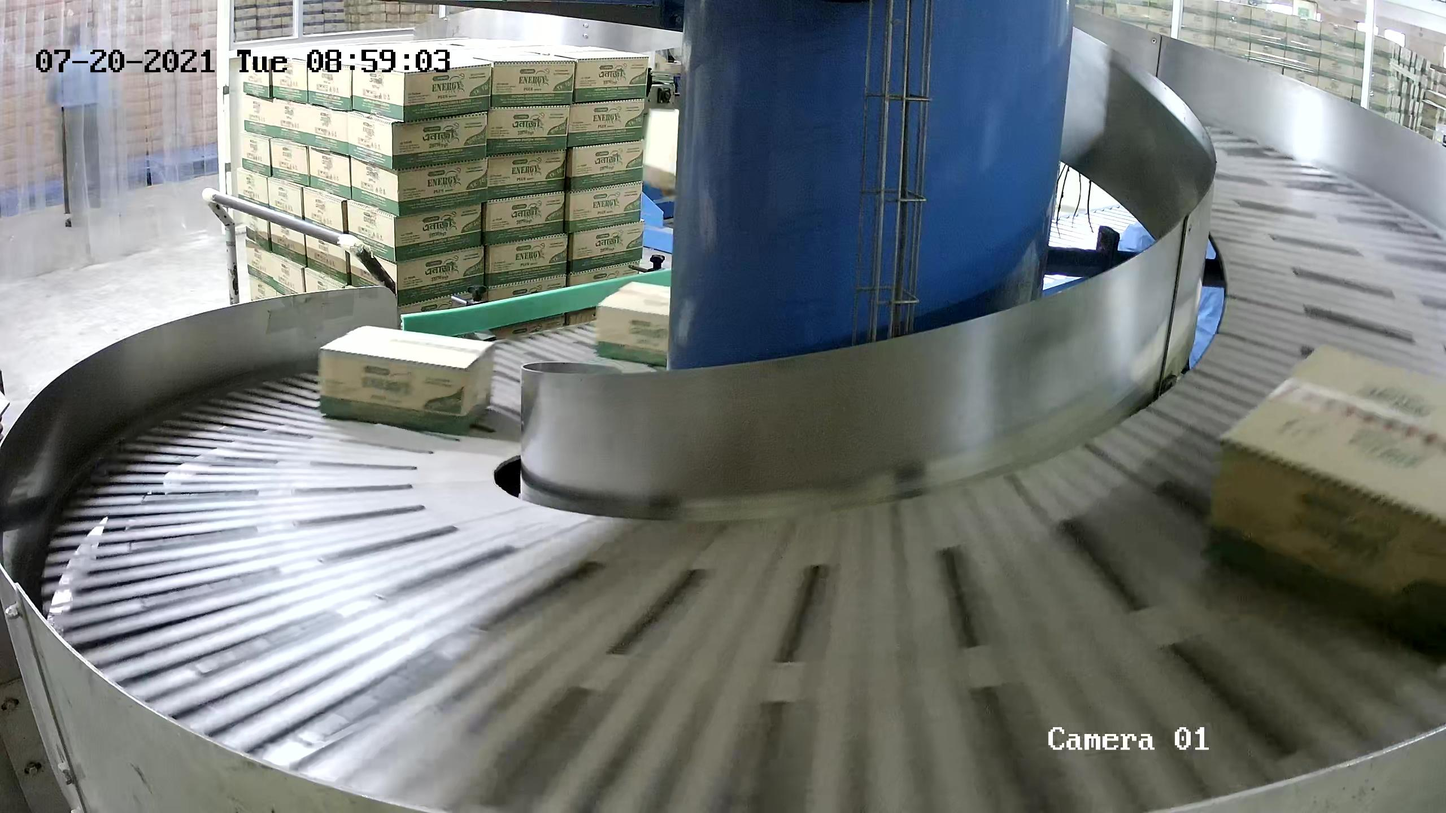Box: (1205, 341, 1446, 669), (318, 325, 496, 436), (595, 280, 724, 375)
